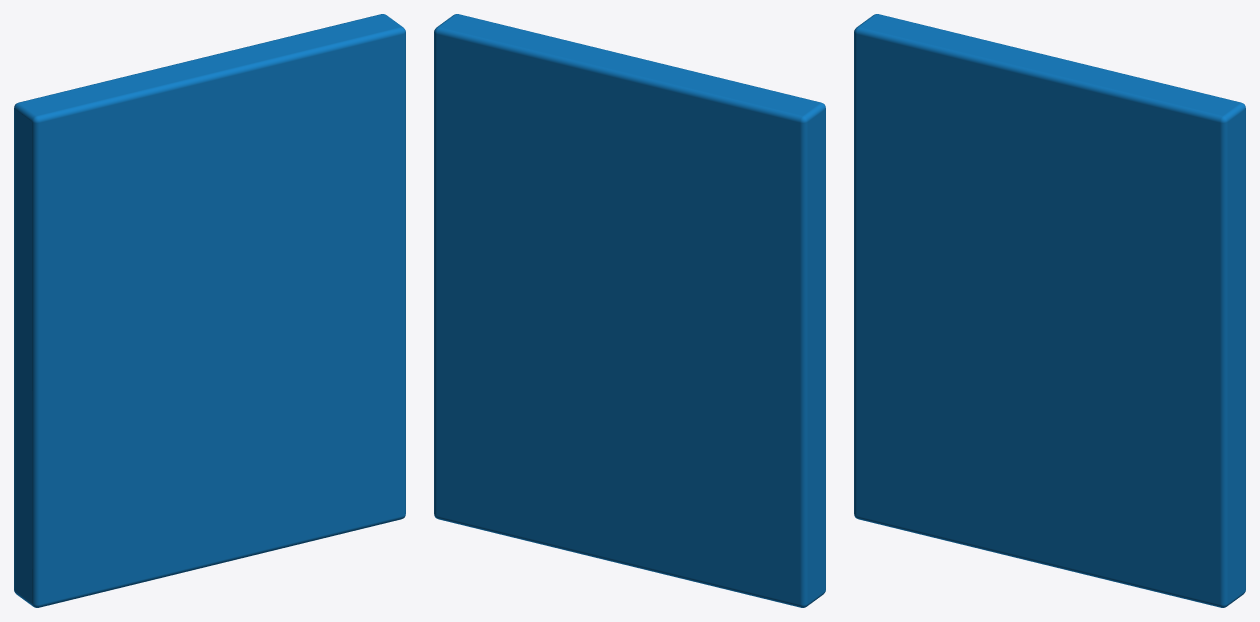
File: dvd-blue.glb
3 views of the same model, side by side, from view 1: azimuth 30°, elevation 25°; view 2: azimuth 150°, elevation 25°; view 3: azimuth 330°, elevation 25° (orthographic).
Size of the model in its own units: 2.62 by 3.3 by 0.28.
